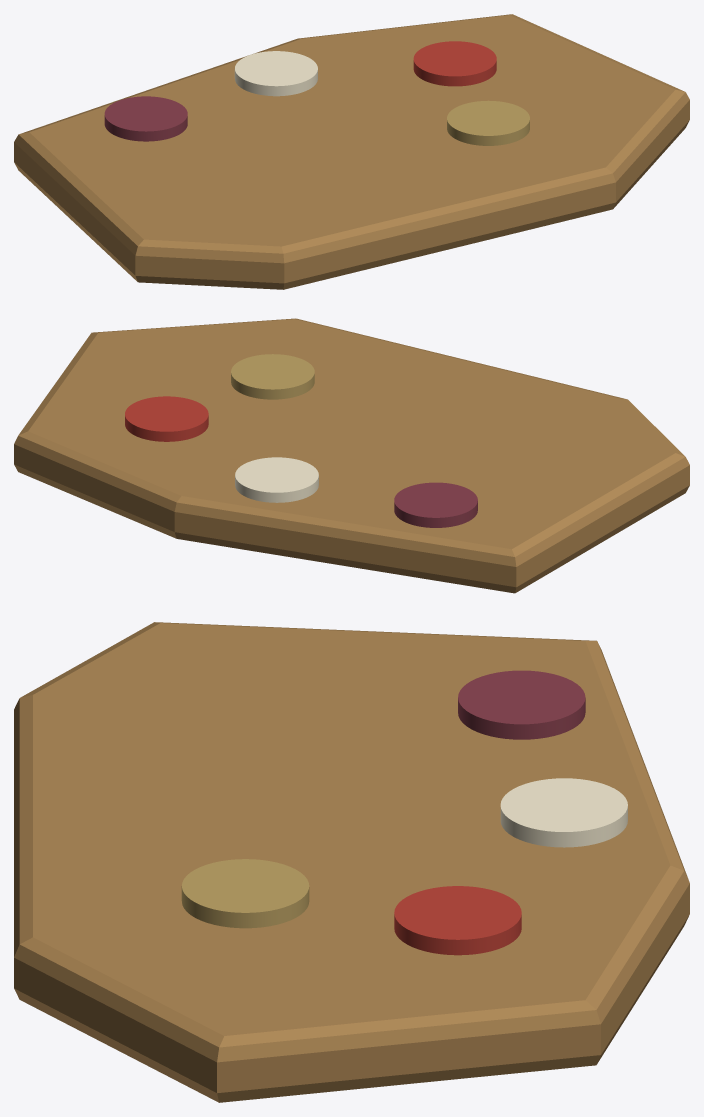
File: abandoned-puppet-theatre-and-prop-vault-paint-mixing-p-06e77a97__31097.glb
The picture shows the model from 3 angles, top to bottom: view 1: azimuth 30°, elevation 25°; view 2: azimuth 150°, elevation 25°; view 3: azimuth 270°, elevation 25°; orthographic projection. The views are drawn at different scales.
Parts seen in each view (by area): view 1: paint-mixing-palette; view 2: paint-mixing-palette; view 3: paint-mixing-palette.
Part boxes in pixels (bbox=[...]): paint-mixing-palette: bbox=[14, 14, 689, 289]; paint-mixing-palette: bbox=[14, 318, 689, 593]; paint-mixing-palette: bbox=[14, 622, 689, 1102].
Bounding box in the file's own units: 0.4795 × 0.042 × 0.3182.
